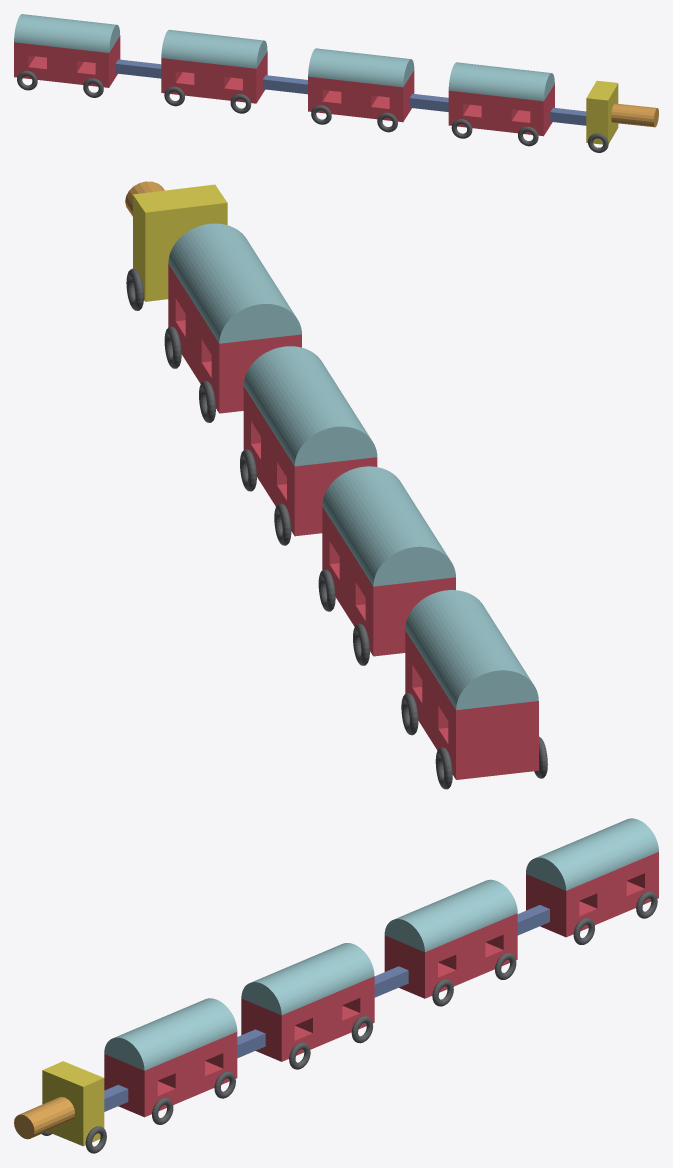
Rendered from The train gltf format.glb.
3 renders of one model, top to bottom at view 1: azimuth 30°, elevation 25°; view 2: azimuth 150°, elevation 25°; view 3: azimuth 270°, elevation 25°, orthographic. The views are drawn at different scales.
Parts seen in each view (by area): view 1: Mesh_Mesh_head_geo.001_lambert2SG.001; view 2: Mesh_Mesh_head_geo.001_lambert2SG.001; view 3: Mesh_Mesh_head_geo.001_lambert2SG.001.
Part boxes in pixels (left/top/right/bottom): Mesh_Mesh_head_geo.001_lambert2SG.001: left=14, top=14, right=658, bottom=152; Mesh_Mesh_head_geo.001_lambert2SG.001: left=125, top=181, right=547, bottom=789; Mesh_Mesh_head_geo.001_lambert2SG.001: left=14, top=818, right=658, bottom=1153.
Bounding box in the file's own units: 230 × 33 × 226.
